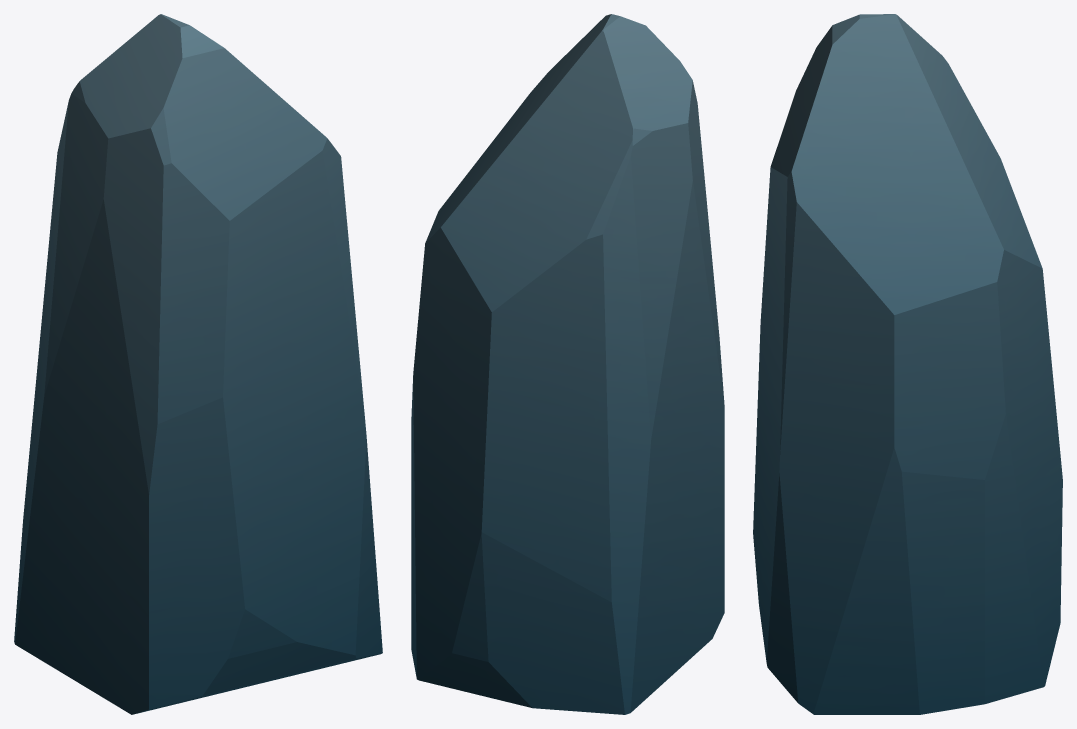
File: SM_Rock_002.fbx
3 views of the same model, side by side, from view 1: azimuth 30°, elevation 25°; view 2: azimuth 150°, elevation 25°; view 3: azimuth 270°, elevation 25° (orthographic). The views are drawn at different scales.
Parts seen in each view (by area): view 1: Rock_002; view 2: Rock_002; view 3: Rock_002.
Part boxes in pixels (left/top/right/bottom): Rock_002: left=14, top=14, right=382, bottom=714; Rock_002: left=411, top=14, right=724, bottom=714; Rock_002: left=753, top=14, right=1062, bottom=714.
Size of the model in its own units: 154 by 353 by 160.
1 material, 1 textured.
